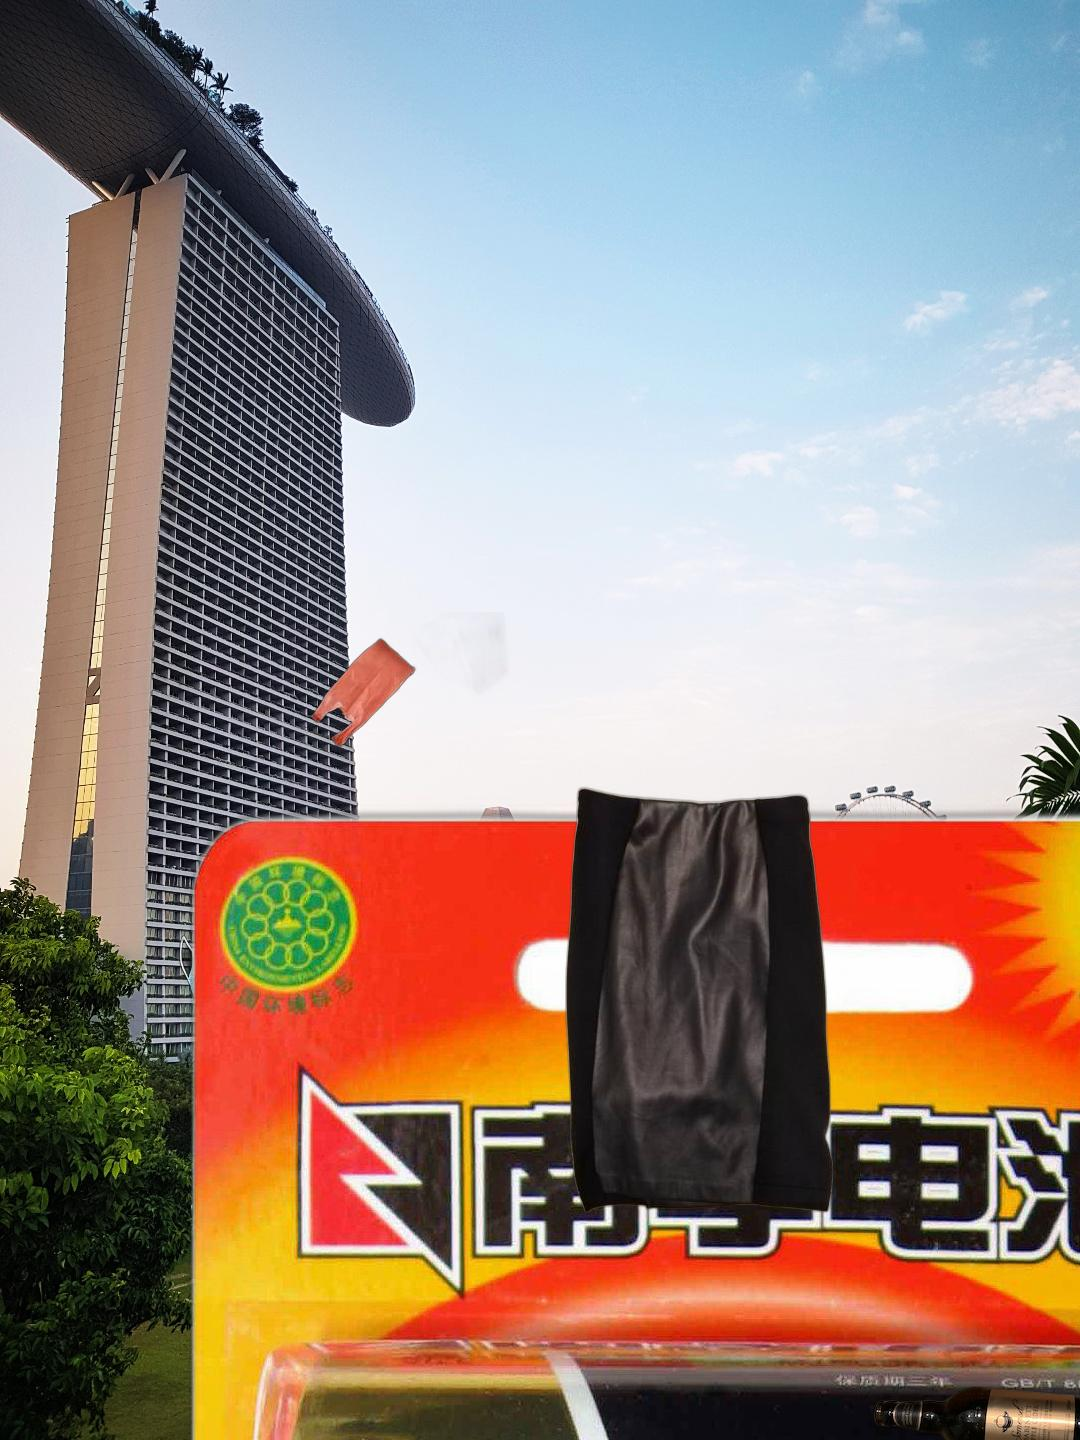battery: (180, 797, 1080, 1440), (996, 1215, 1080, 1359)
clothes: (563, 783, 837, 1217)
glass: (870, 1383, 1080, 1440)
plastic-bag: (307, 612, 510, 750)
trash: (177, 933, 333, 1043)
